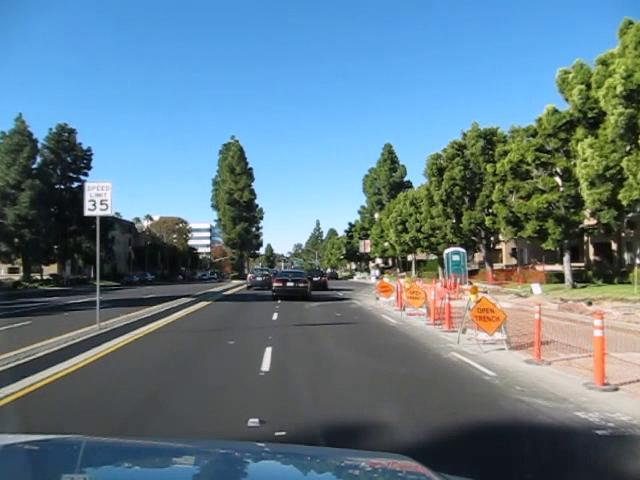speedLimit35: (83, 181, 112, 216)
